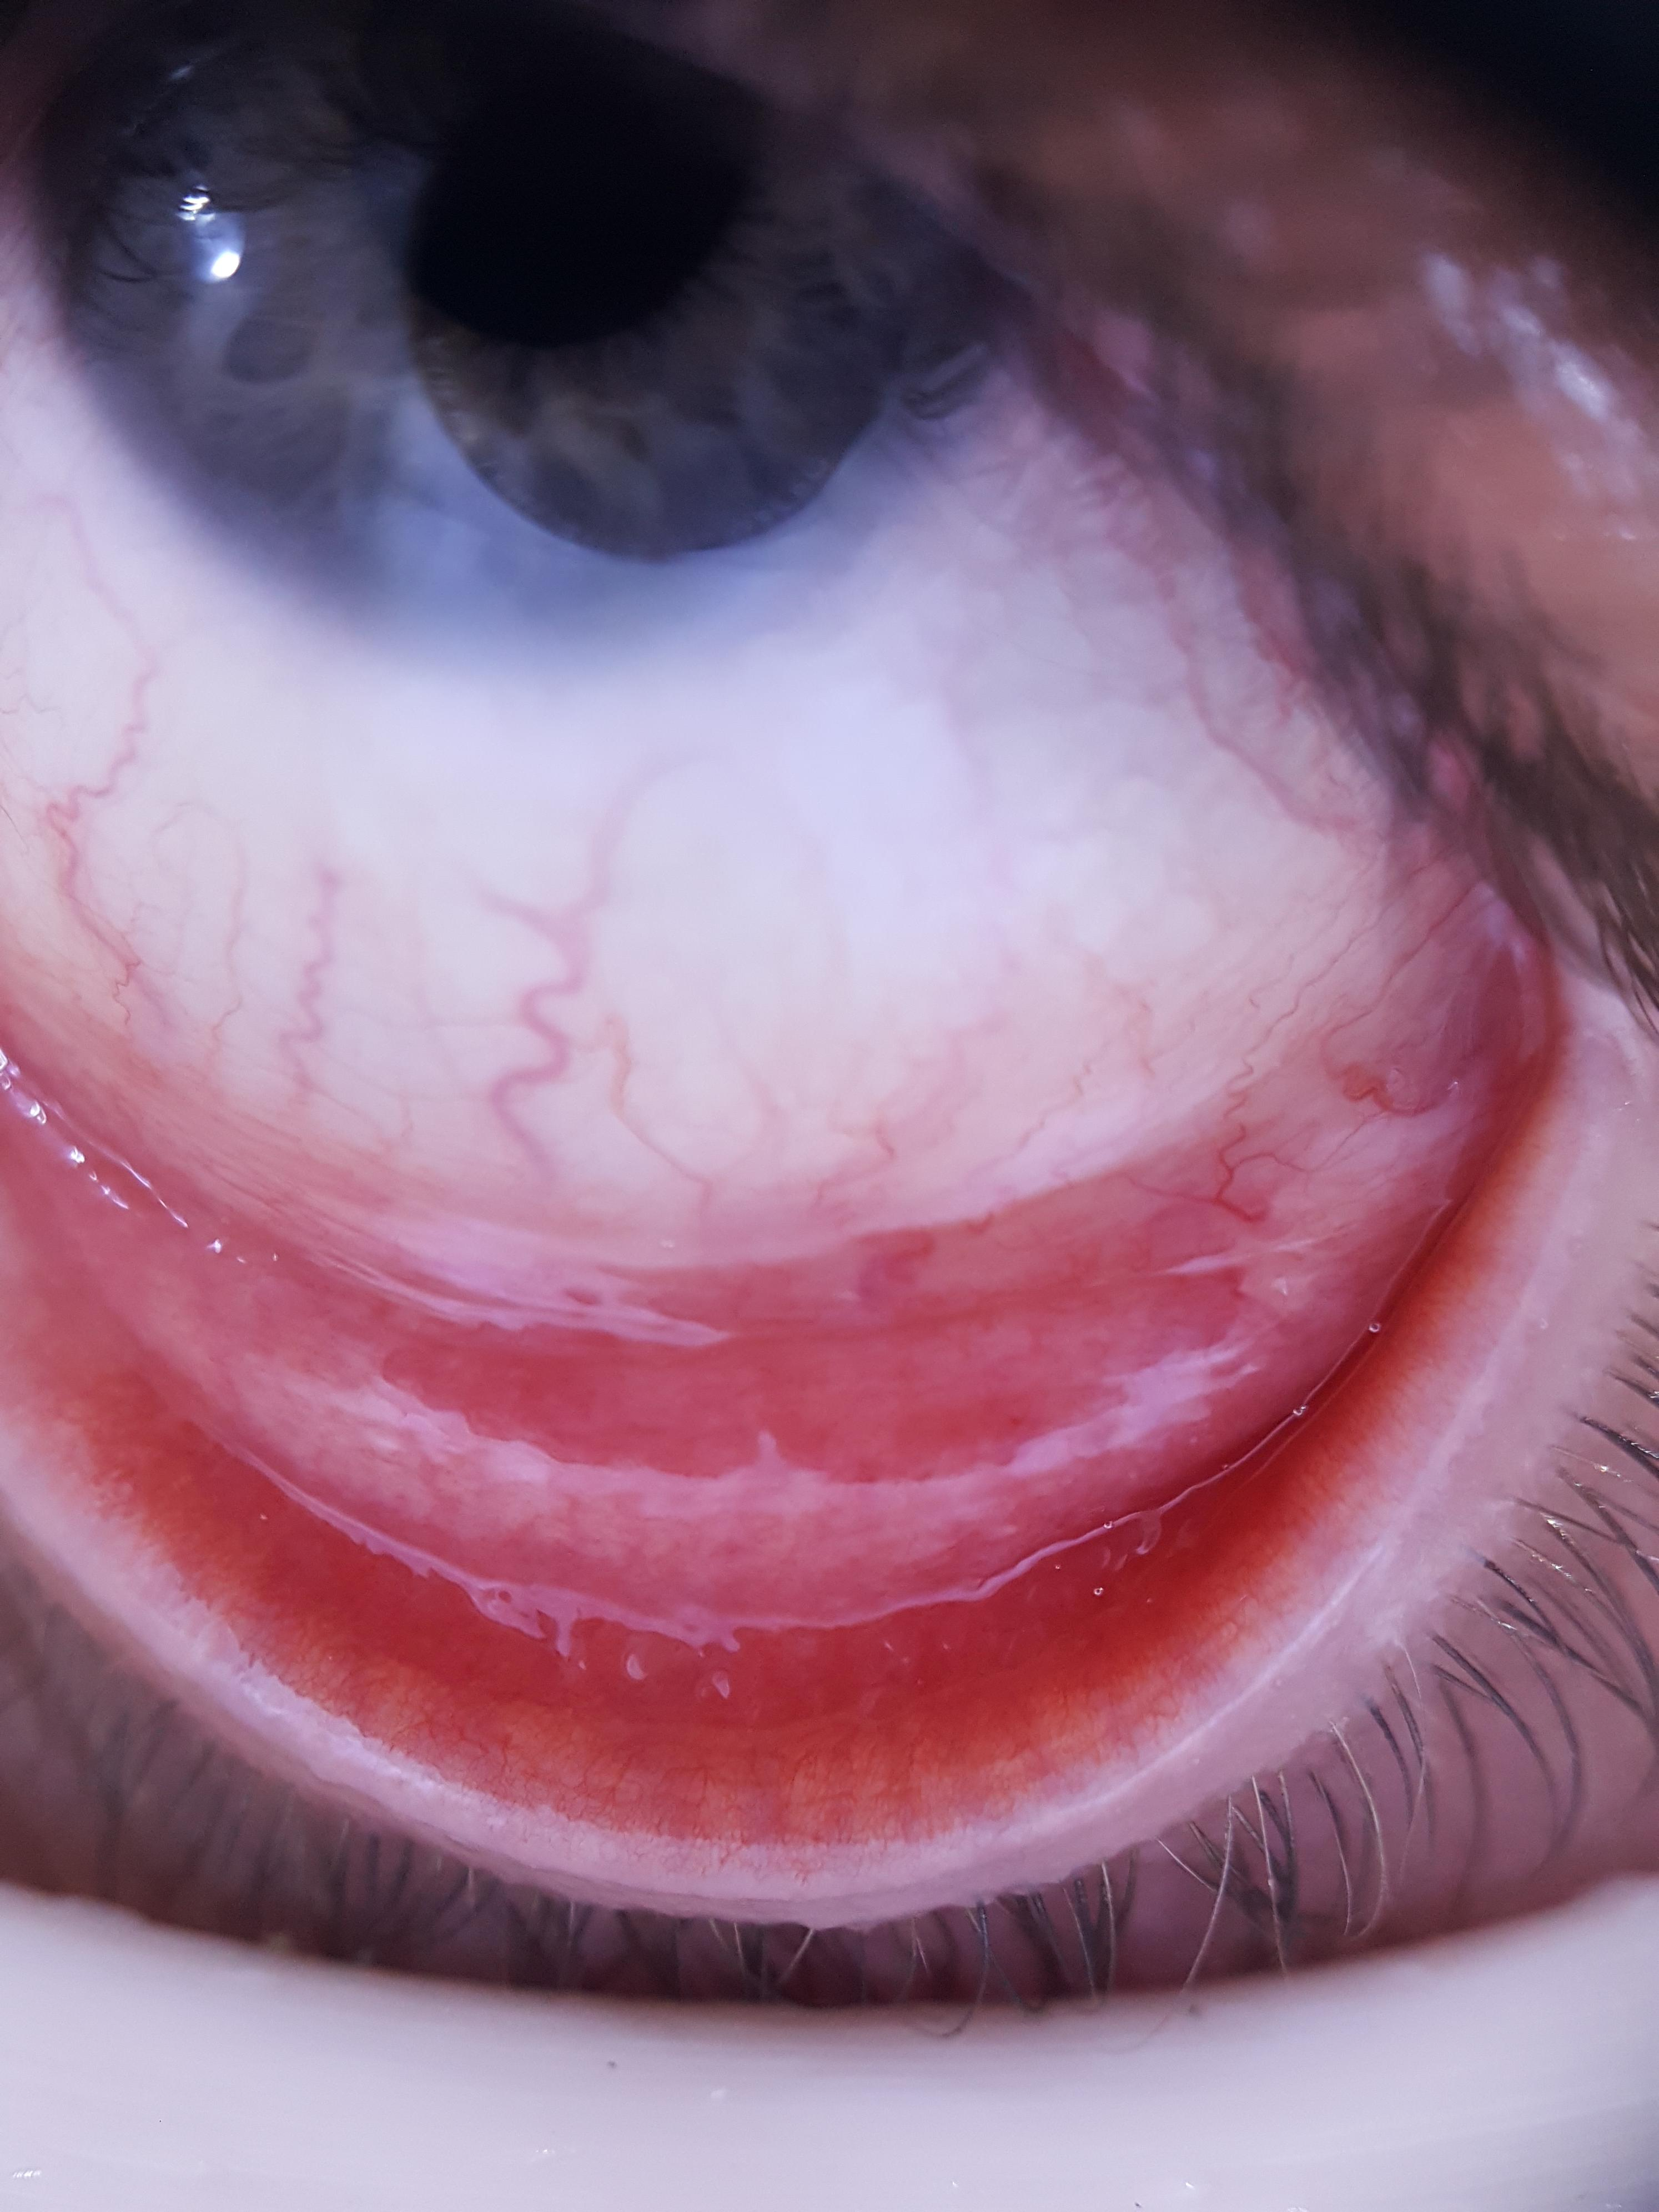forniceal: (0, 963, 1483, 1651)
forniceal_palpebral: (0, 934, 1553, 1850)
palpebral: (0, 948, 1546, 1829)
